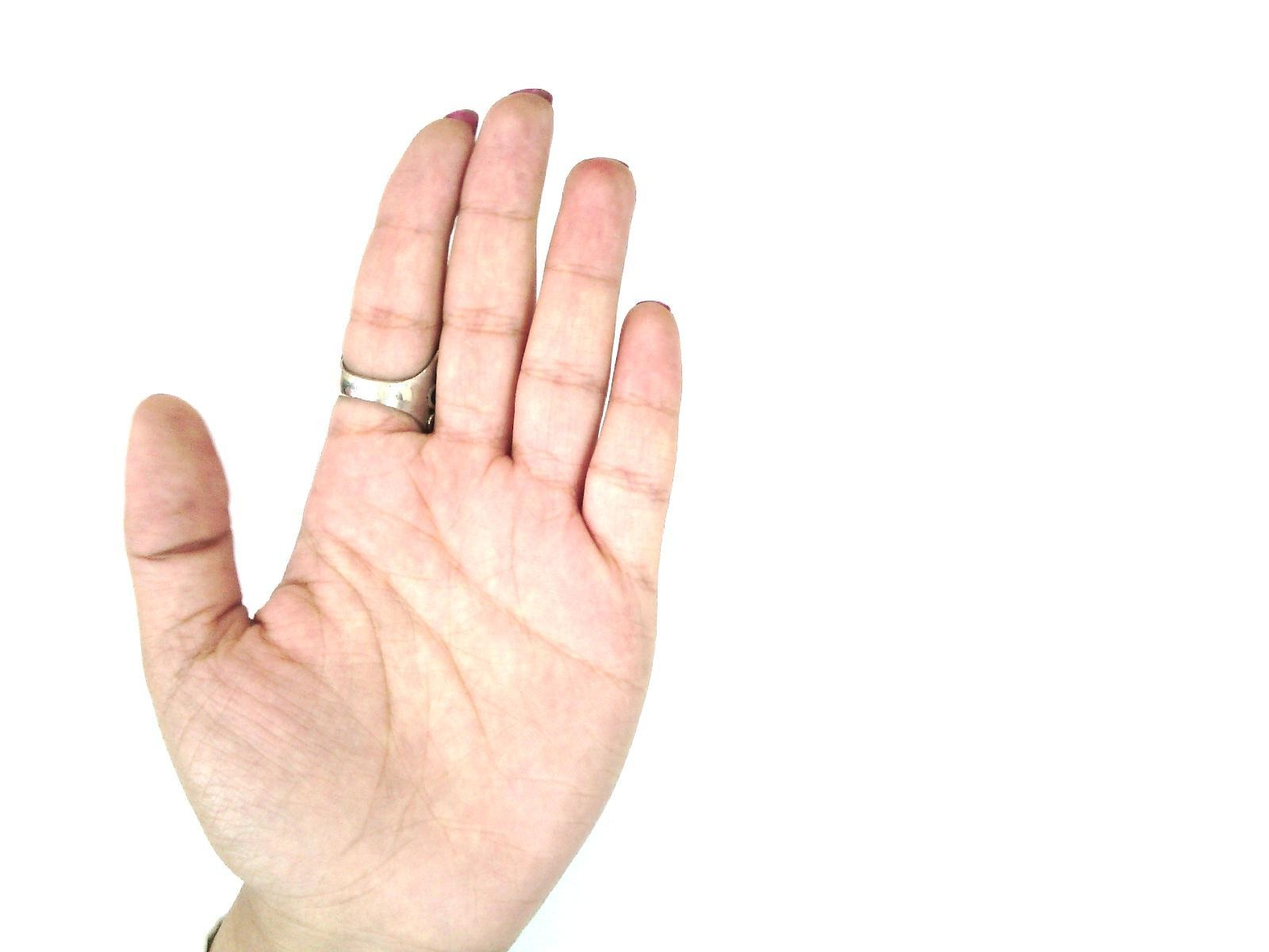open_palm: (121, 86, 687, 950)
